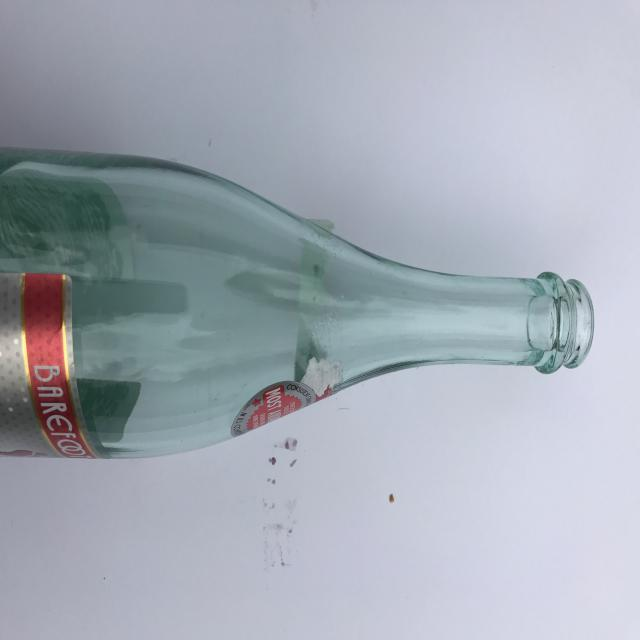glass: (0, 146, 595, 460)
